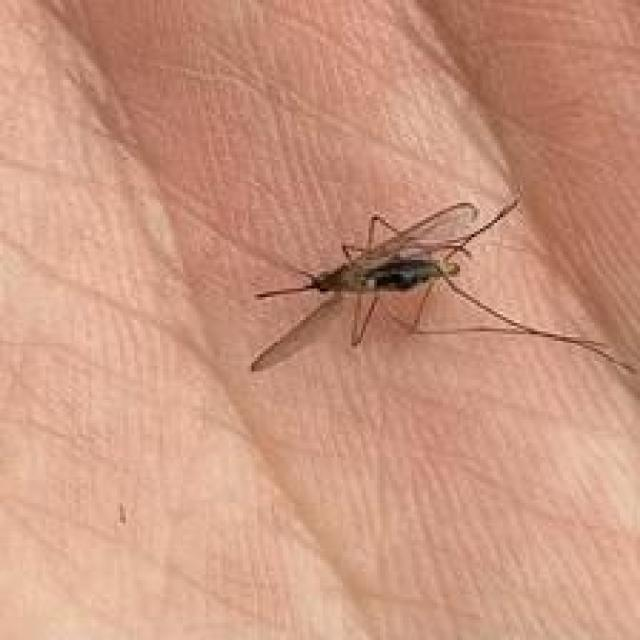Culex: (249, 197, 637, 377)
